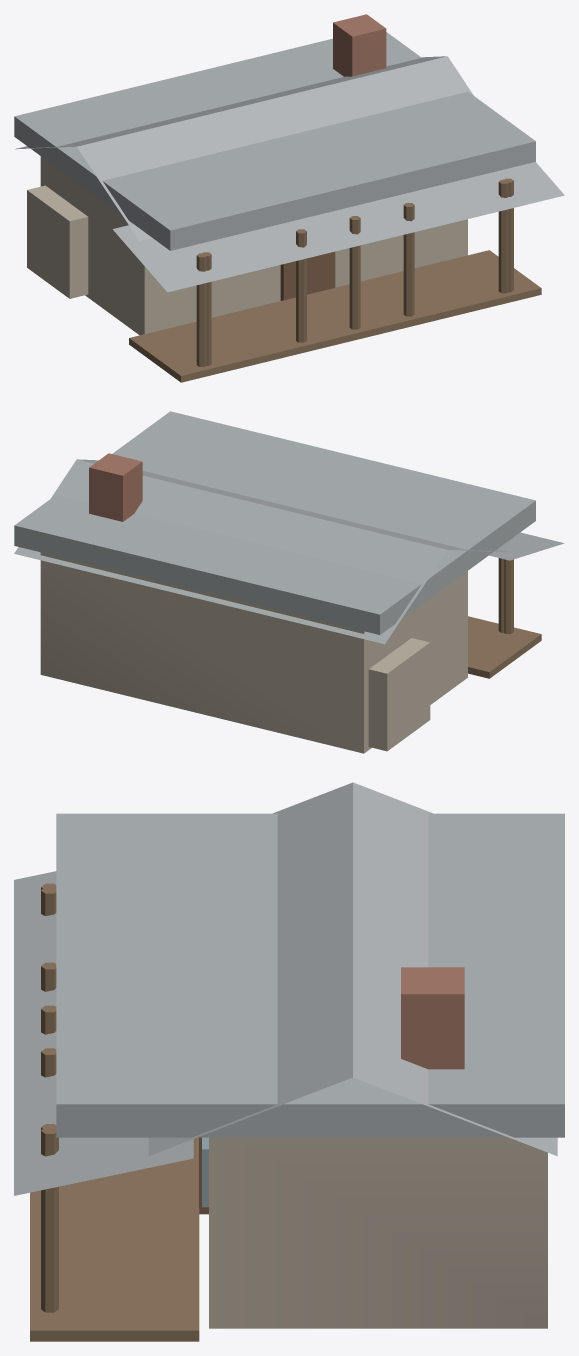
The model's file is valleyvilla.glb.
The picture shows the model from 3 angles, top to bottom: view 1: azimuth 30°, elevation 25°; view 2: azimuth 150°, elevation 25°; view 3: azimuth 270°, elevation 25°; orthographic projection. The views are drawn at different scales.
Visible parts, largest first — view 1: near, far; view 2: near, far; view 3: near, far.
Part boxes in pixels (box(x1,y1,x2,y2)): near: box(15, 14, 564, 382); far: box(14, 32, 535, 365); near: box(14, 453, 564, 753); far: box(14, 411, 535, 634); near: box(14, 782, 557, 1341); far: box(41, 813, 564, 1137).
Bounding box in the file's own units: 3.75 × 1.75 × 2.76.
